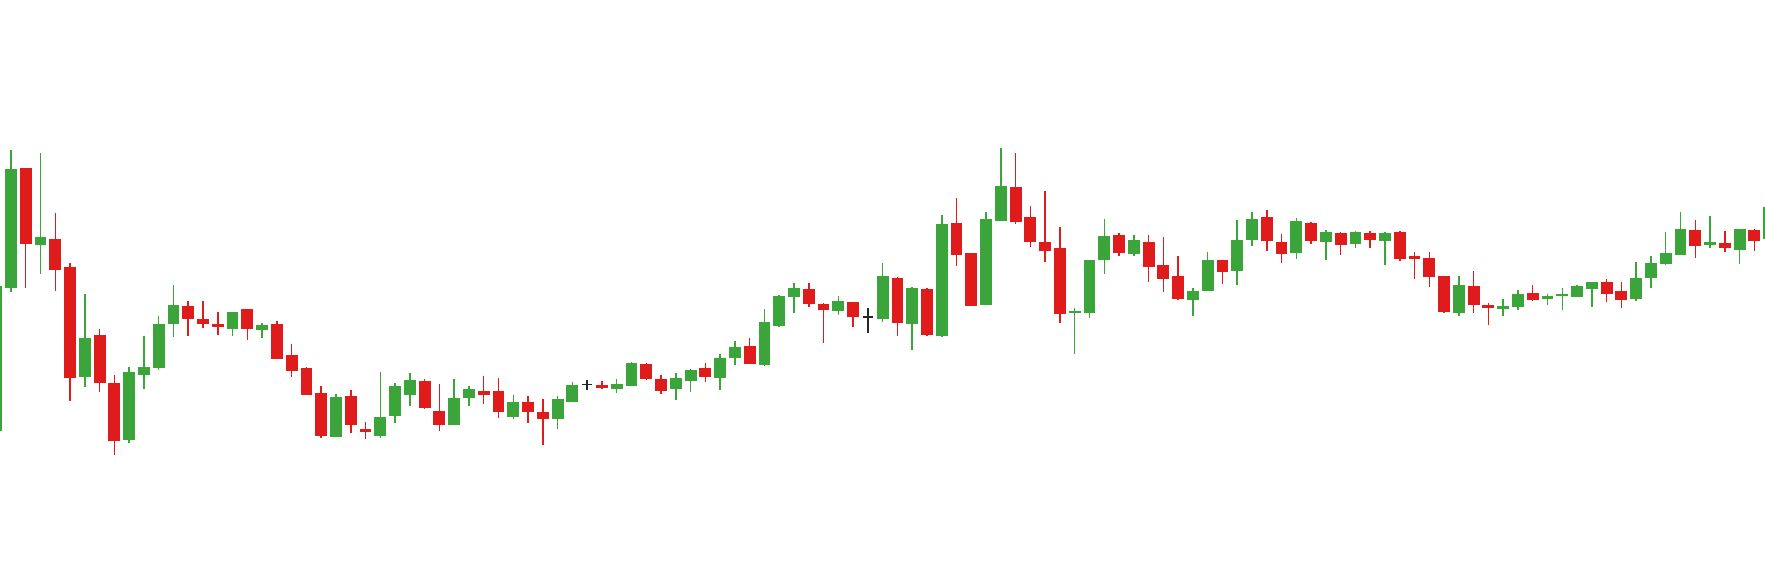buy: (921, 234, 1082, 354)
